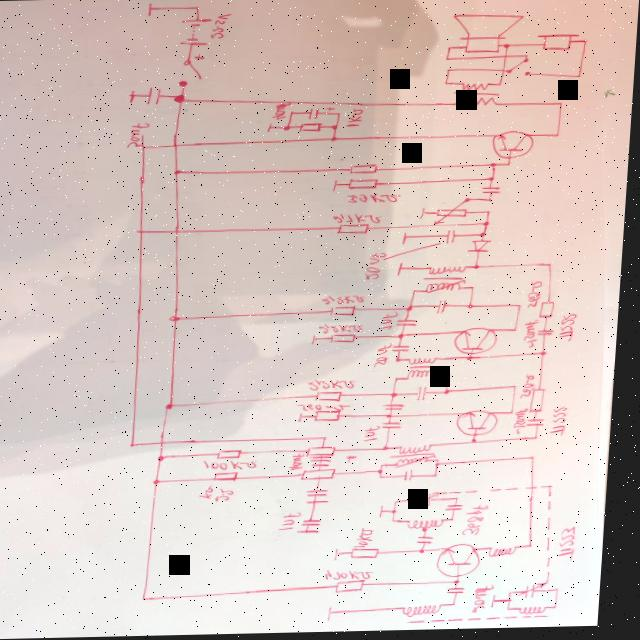capacitor: (525, 583, 560, 601), (419, 492, 450, 510), (316, 456, 366, 465), (310, 107, 339, 121), (334, 307, 363, 319), (147, 88, 166, 106), (454, 587, 477, 598), (419, 388, 434, 404), (483, 187, 507, 197), (386, 422, 410, 432), (446, 232, 463, 246), (400, 320, 424, 329), (532, 420, 553, 430), (313, 490, 339, 498), (440, 301, 453, 317), (388, 404, 411, 413), (307, 520, 331, 528), (396, 346, 417, 355), (452, 506, 474, 514), (424, 538, 444, 546), (542, 330, 561, 338), (410, 472, 422, 484)
crossover: (174, 144, 183, 150), (164, 441, 173, 446), (537, 488, 545, 493), (503, 56, 510, 61), (178, 230, 184, 235), (503, 70, 508, 74)
diode: (470, 241, 497, 256)
ground: (146, 2, 159, 18), (333, 179, 344, 194), (130, 89, 140, 104), (385, 506, 394, 520), (336, 608, 344, 623), (422, 209, 431, 222), (499, 596, 506, 612), (405, 233, 412, 247), (342, 549, 349, 563), (304, 531, 328, 535), (402, 263, 408, 278), (270, 122, 276, 134), (304, 413, 311, 423), (317, 336, 323, 347)
inductor: (403, 602, 564, 630), (497, 548, 526, 561)
junction: (175, 94, 187, 104), (173, 316, 188, 323), (426, 549, 436, 557), (171, 403, 181, 411), (193, 5, 204, 12), (402, 334, 412, 341), (164, 455, 174, 462), (467, 197, 477, 204), (410, 307, 421, 313), (471, 305, 482, 311), (486, 222, 496, 228), (396, 394, 406, 400), (477, 440, 487, 446), (149, 596, 159, 602), (285, 126, 295, 132), (399, 510, 407, 517), (563, 589, 571, 596), (334, 125, 342, 132), (160, 480, 169, 486), (176, 170, 185, 176), (477, 266, 486, 272), (333, 138, 342, 144), (449, 391, 458, 397), (135, 443, 144, 449), (515, 600, 524, 606), (492, 164, 501, 170), (490, 178, 499, 184), (389, 447, 397, 453), (545, 353, 553, 359), (508, 164, 516, 170), (535, 545, 543, 551), (445, 82, 453, 88), (141, 229, 149, 235), (557, 135, 565, 141), (460, 603, 468, 609), (561, 607, 569, 613), (483, 233, 491, 239), (471, 357, 479, 363), (328, 437, 337, 442), (439, 475, 448, 480), (559, 104, 568, 109), (504, 46, 513, 51), (446, 70, 454, 75), (583, 41, 591, 46), (536, 458, 544, 463), (539, 438, 547, 443), (474, 287, 482, 292), (416, 291, 424, 296), (551, 265, 559, 270), (451, 375, 459, 380), (446, 58, 454, 63), (400, 360, 408, 365), (462, 581, 470, 586), (292, 111, 298, 117), (490, 200, 497, 205), (398, 379, 406, 383), (392, 415, 400, 419), (578, 76, 584, 81), (401, 501, 407, 506), (399, 520, 405, 525), (384, 470, 390, 475), (144, 145, 150, 150), (518, 386, 524, 391), (385, 477, 392, 481), (447, 48, 454, 52), (516, 330, 523, 334), (522, 306, 528, 310), (386, 465, 392, 469), (517, 592, 523, 596), (515, 609, 521, 613), (488, 212, 494, 216), (515, 413, 521, 417), (442, 465, 448, 469), (339, 113, 345, 117), (526, 56, 531, 60), (442, 460, 447, 464)
resistor: (436, 207, 475, 227), (340, 579, 375, 596), (307, 468, 346, 483), (312, 445, 347, 459), (416, 520, 451, 534), (535, 390, 553, 416), (356, 549, 391, 562), (349, 179, 383, 192), (340, 224, 374, 237), (351, 165, 383, 177), (320, 392, 351, 404), (320, 412, 349, 424), (222, 449, 251, 461), (334, 335, 363, 346), (545, 303, 562, 321), (220, 472, 247, 483), (301, 123, 326, 134)
source: (180, 17, 213, 50)
switch: (179, 59, 206, 88), (507, 61, 533, 79)
text: (563, 527, 589, 566), (469, 506, 497, 539), (480, 586, 506, 616), (368, 252, 393, 283), (349, 194, 408, 207), (311, 379, 363, 393), (211, 461, 266, 474), (206, 484, 243, 503), (211, 13, 235, 41), (336, 213, 387, 226), (332, 570, 383, 583), (563, 316, 583, 345), (556, 409, 575, 439), (326, 296, 372, 308), (529, 283, 548, 311), (323, 325, 370, 336), (303, 404, 359, 413), (379, 344, 399, 369), (286, 512, 309, 533), (131, 123, 150, 148), (526, 375, 543, 402), (361, 529, 383, 549), (384, 313, 405, 333), (529, 322, 544, 350), (349, 109, 368, 131), (519, 410, 535, 436), (296, 452, 315, 472), (368, 426, 387, 444), (276, 103, 292, 121), (196, 53, 209, 64)
transformer: (428, 265, 476, 296), (455, 84, 504, 109), (398, 445, 444, 470), (411, 359, 444, 381)
transistor: (443, 544, 491, 581), (494, 131, 539, 162), (459, 328, 504, 358), (462, 410, 507, 439)
